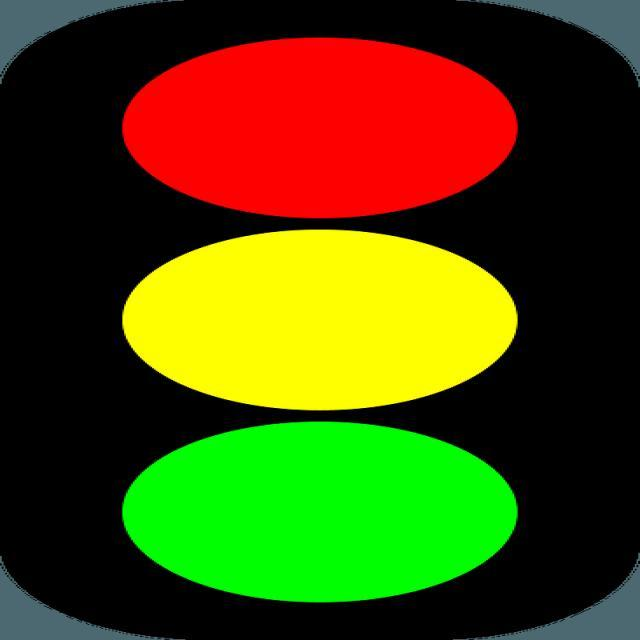green: (129, 423, 519, 594)
red: (129, 40, 505, 212)
